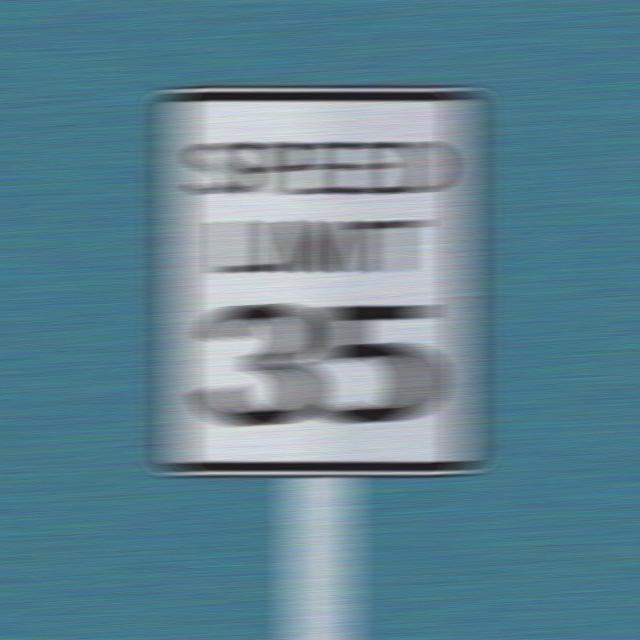speedLimit35: (163, 94, 477, 464)
